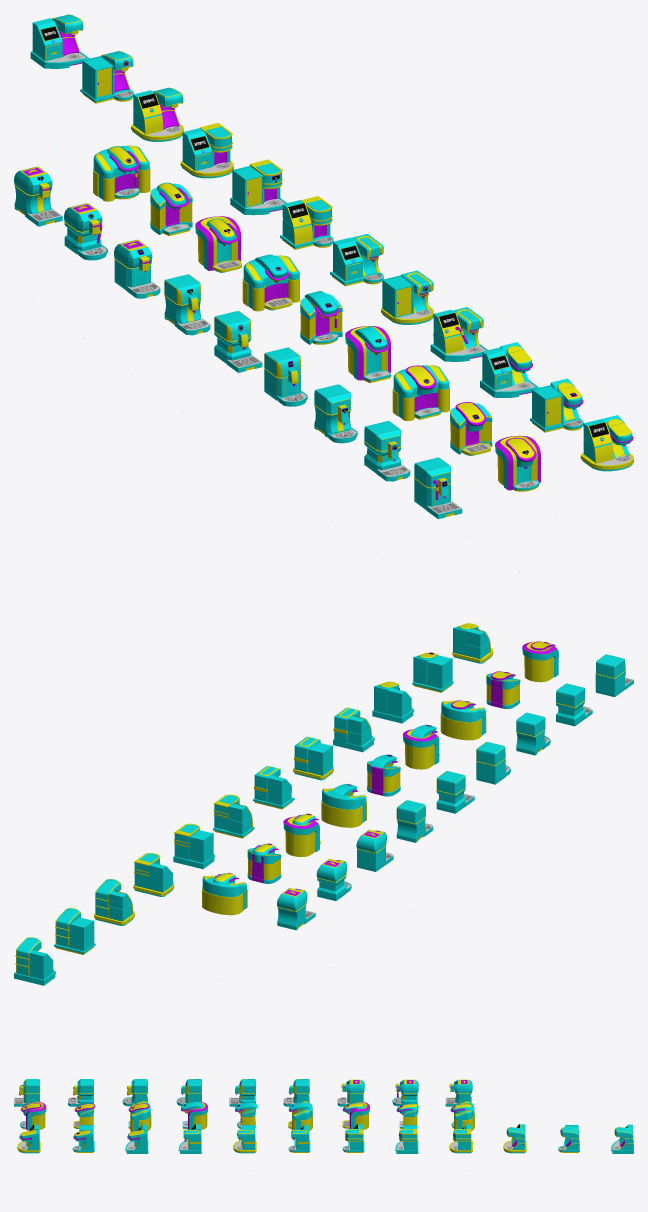
File: coffee_machines_grp.fbx
3 renders of one model, top to bottom at view 1: azimuth 30°, elevation 25°; view 2: azimuth 150°, elevation 25°; view 3: azimuth 270°, elevation 25°, orthographic. The views are drawn at different scales.
Visible parts, largest first — view 1: coffee_machine_15, coffee_machine_12, coffee_machine_18, coffee_machine_26, coffee_machine_27, coffee_machine_30, coffee_machine_22, coffee_machine_21, coffee_machine_19, coffee_machine_28, coffee_machine_23, coffee_machine_25 (+18 smaller); view 2: coffee_machine_15, coffee_machine_18, coffee_machine_12, coffee_machine_26, coffee_machine_29, coffee_machine_30, coffee_machine_28, coffee_machine_23, coffee_machine_13, coffee_machine_22, coffee_machine_20, coffee_machine_27 (+18 smaller); view 3: coffee_machine_13, coffee_machine_16, coffee_machine_15, coffee_machine_10, coffee_machine_12, coffee_machine_26, coffee_machine_28, coffee_machine_23, coffee_machine_18, coffee_machine_8, coffee_machine_22, coffee_machine_2 (+18 smaller).
Part boxes in pixels (x1,y1,x2,y2): coffee_machine_15: (242,254,299,311); coffee_machine_12: (392,365,449,420); coffee_machine_18: (93,145,150,201); coffee_machine_26: (230,159,286,215); coffee_machine_27: (180,123,233,178); coffee_machine_30: (30,14,89,149); coffee_machine_22: (430,307,487,361); coffee_machine_21: (480,342,538,397); coffee_machine_19: (580,415,633,552); coffee_machine_28: (131,87,183,141); coffee_machine_23: (381,270,434,324); coffee_machine_25: (280,196,333,249); coffee_machine_15: (321,783,366,827); coffee_machine_18: (202,872,247,979); coffee_machine_12: (440,700,486,740); coffee_machine_26: (173,823,214,933); coffee_machine_29: (54,908,95,1021); coffee_machine_30: (14,937,55,1050); coffee_machine_28: (94,879,134,992); coffee_machine_23: (293,736,333,780); coffee_machine_13: (402,724,439,769); coffee_machine_22: (333,707,374,752); coffee_machine_20: (412,652,453,692); coffee_machine_27: (133,853,174,896); coffee_machine_13: (181,1102,207,1174); coffee_machine_16: (342,1102,369,1129); coffee_machine_15: (288,1101,312,1175); coffee_machine_10: (20,1102,46,1130); coffee_machine_12: (128,1101,151,1175); coffee_machine_26: (395,1125,418,1153); coffee_machine_28: (503,1124,526,1197); coffee_machine_23: (233,1125,256,1197); coffee_machine_18: (450,1101,474,1175); coffee_machine_8: (392,1079,418,1106); coffee_machine_22: (178,1124,201,1197); coffee_machine_2: (68,1079,93,1106).
Size of the model in its own units: 237 by 146 by 1149.
